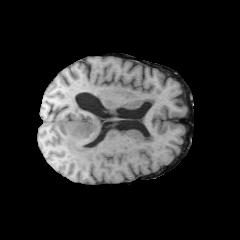glioma: (59, 109, 109, 170)
